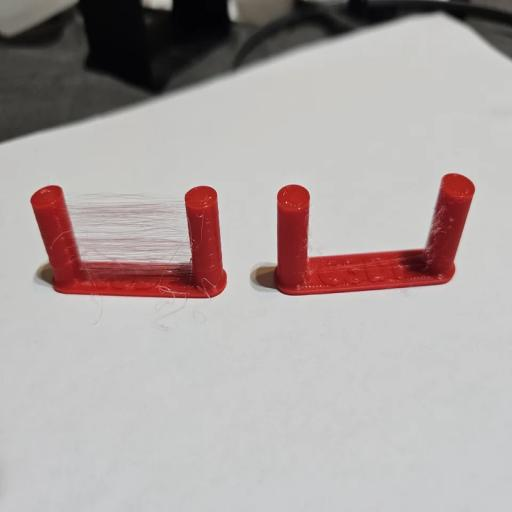stringing: (63, 195, 192, 274), (423, 200, 440, 263)
